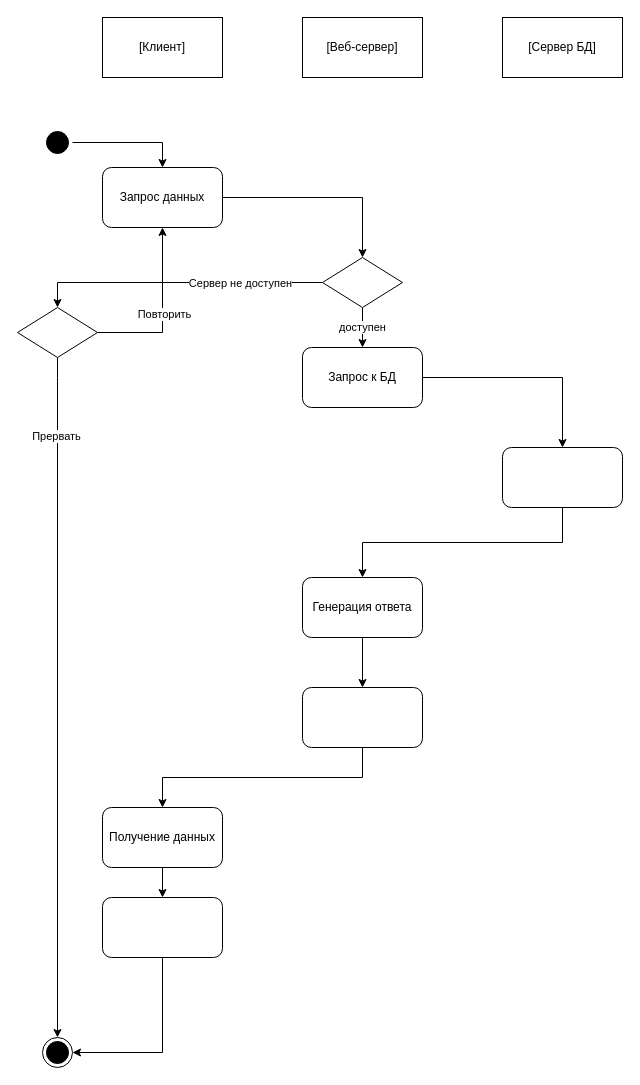
The diagram is 640 pixels wide and 1085 high, and some of its shapes have lost their labels. Here are the shapes that lost their labels. From the top down, the centre of each, then its label:
pixel 562 477: Выборка данных
pixel 362 717: Отправка ответа
pixel 162 927: Отрисовка изменений
